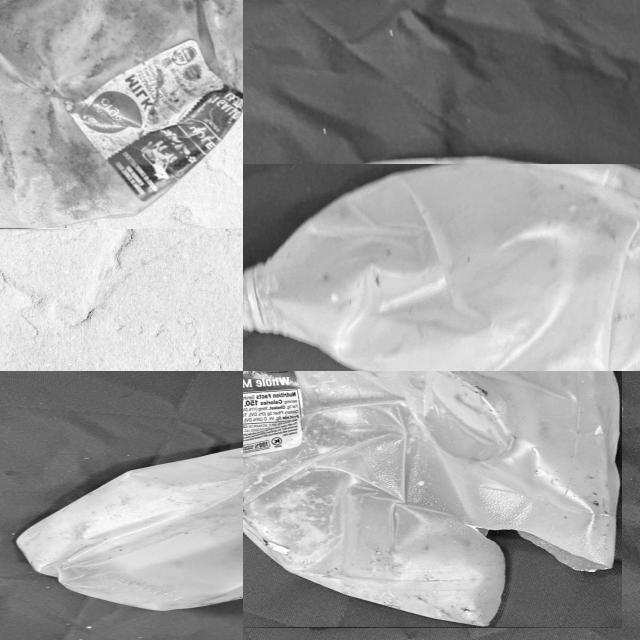milk-jug: (243, 371, 622, 627), (243, 163, 640, 371), (0, 0, 243, 228), (8, 425, 243, 611)
